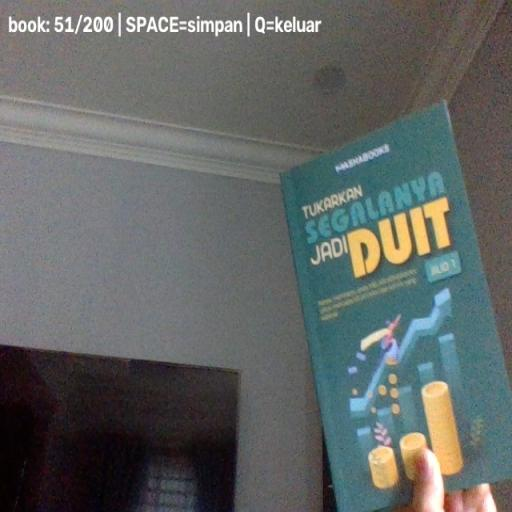Book: (279, 99, 512, 512)
